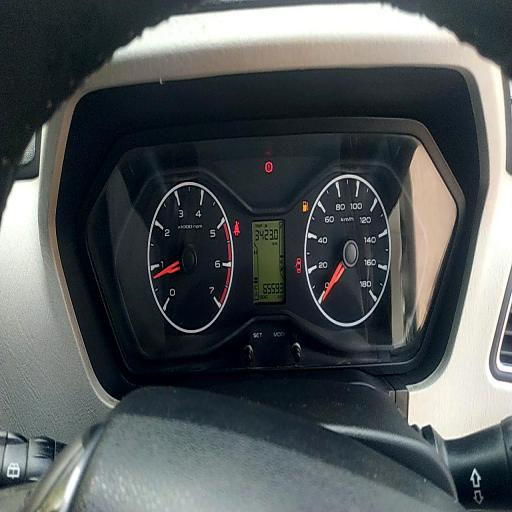belt: (234, 220, 240, 238)
brake_system_fault: (264, 160, 272, 173)
tachometer: (148, 180, 234, 334)
